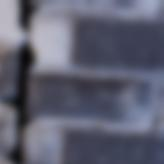brick: (74, 20, 163, 75), (64, 132, 163, 163), (159, 103, 163, 129)
broken_brick: (26, 74, 151, 125), (31, 0, 156, 13), (30, 22, 67, 64), (0, 0, 27, 42), (24, 129, 56, 163), (0, 52, 18, 100), (0, 108, 17, 156)
crack: (0, 0, 40, 163)
